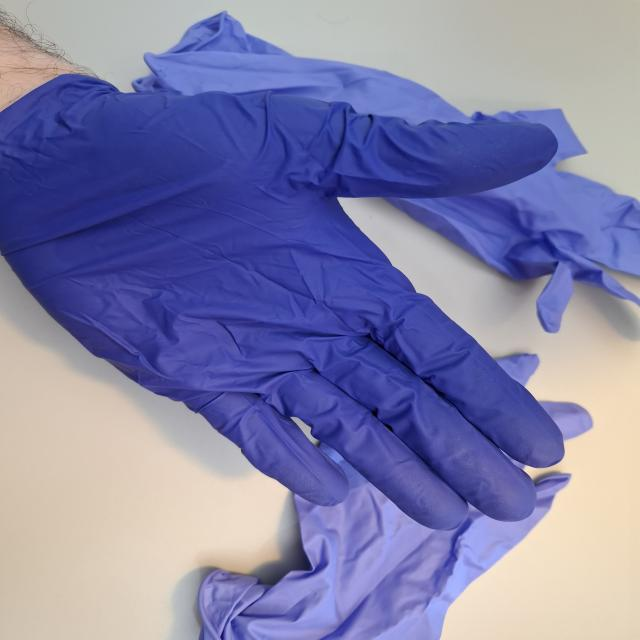glove_on: (0, 69, 568, 534)
